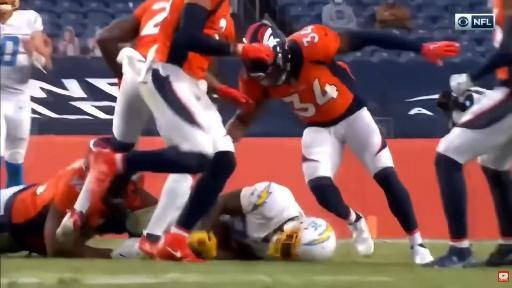Helmet: (268, 218, 336, 261), (244, 22, 290, 85), (84, 136, 112, 170), (90, 137, 111, 151), (0, 0, 19, 11)
Jersey: (240, 25, 362, 125), (4, 160, 86, 254), (223, 182, 304, 258), (155, 0, 210, 79), (0, 11, 43, 93), (133, 0, 171, 58), (204, 15, 234, 42), (493, 0, 504, 47)
Player: (229, 23, 459, 263), (90, 0, 272, 261), (430, 1, 511, 267), (0, 160, 156, 258), (188, 182, 336, 261), (189, 182, 336, 260), (427, 130, 511, 266), (98, 0, 170, 152), (0, 0, 51, 187)
